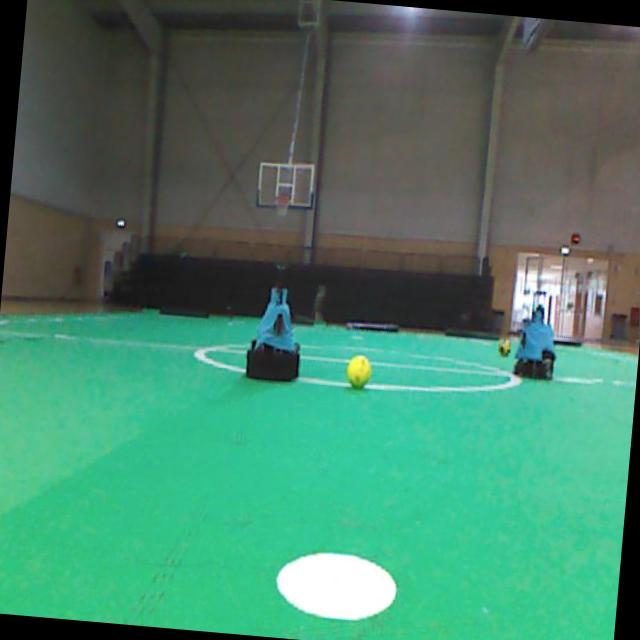ball: (346, 354, 370, 387), (499, 340, 511, 356)
